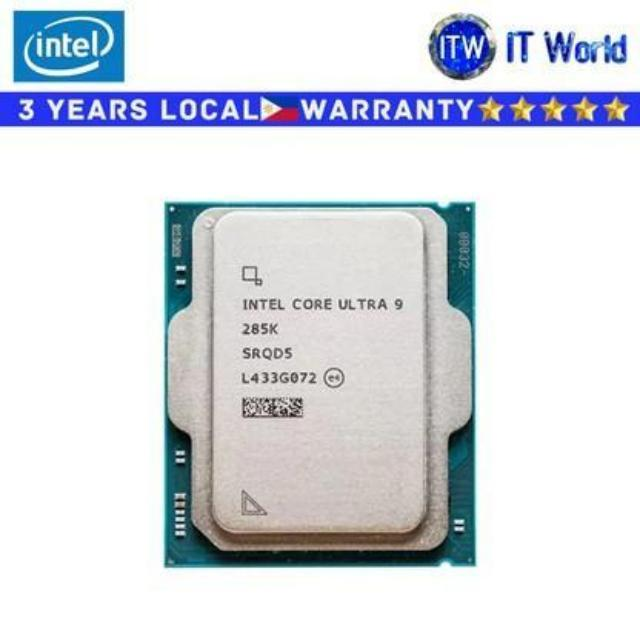CPU: (168, 197, 472, 566)
